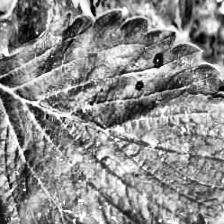Leaf Spot: (0, 8, 224, 224)
